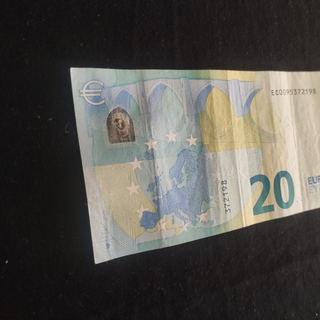20EUROBack: (68, 66, 320, 265)
